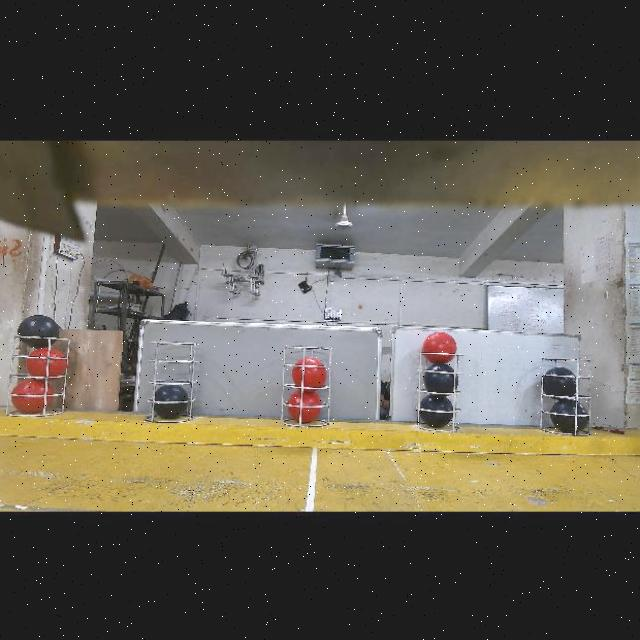P: (17, 315, 60, 349), (550, 399, 589, 435), (148, 386, 188, 420), (420, 395, 453, 429), (424, 363, 459, 394), (542, 367, 576, 398)
R: (11, 380, 53, 414), (25, 347, 66, 378), (422, 332, 457, 364), (288, 391, 322, 423), (292, 358, 327, 389)
S: (14, 331, 74, 411), (538, 356, 598, 432), (146, 334, 196, 424), (282, 340, 331, 428), (418, 352, 469, 436)
